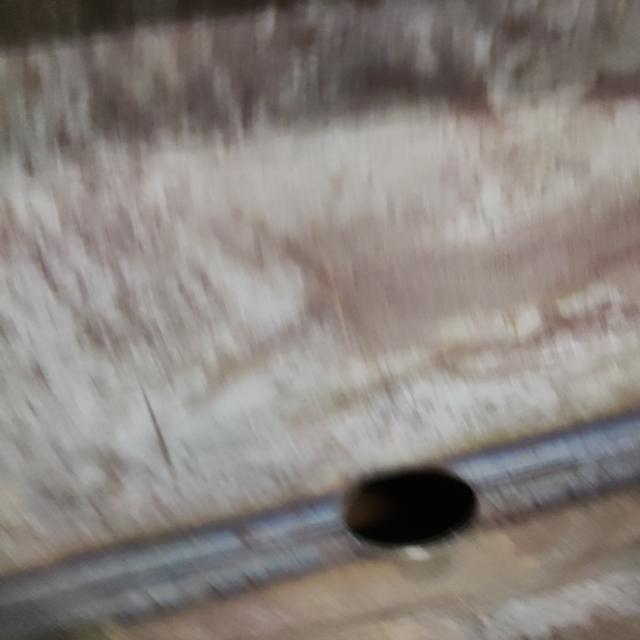seam: (0, 396, 640, 640)
